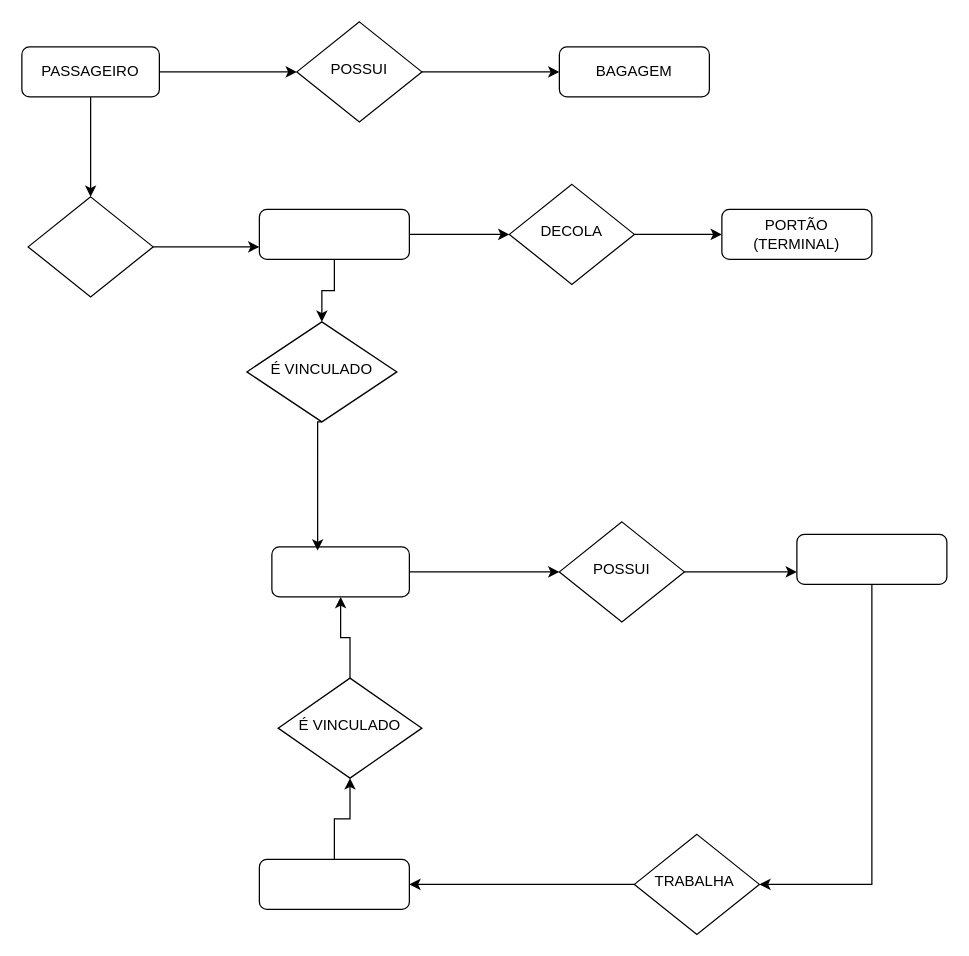
This 969x956 diagram has some shape labels left out. The shapes that lost their labels are listed below. From the top down, each one's centre as x and y in pixels, then its label:
At point 90,246: "PERTENCE".
At point 333,233: "VOO".
At point 340,571: "COMPANHIA AÉREA".
At point 871,558: "FUNCIONÁRIOS".
At point 333,883: "AERONAVE".
